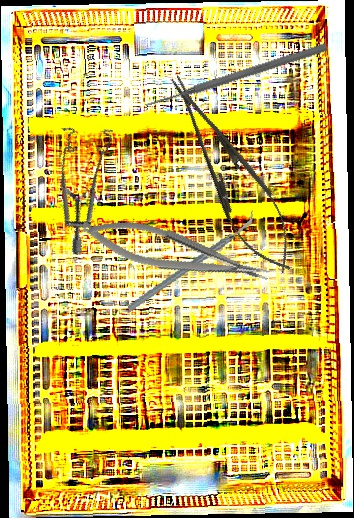Chopper: (113, 210, 269, 313)
Needle Holder: (152, 63, 310, 284), (77, 204, 273, 302)
Pusher: (143, 40, 329, 112)
Speculum: (26, 109, 153, 258)
